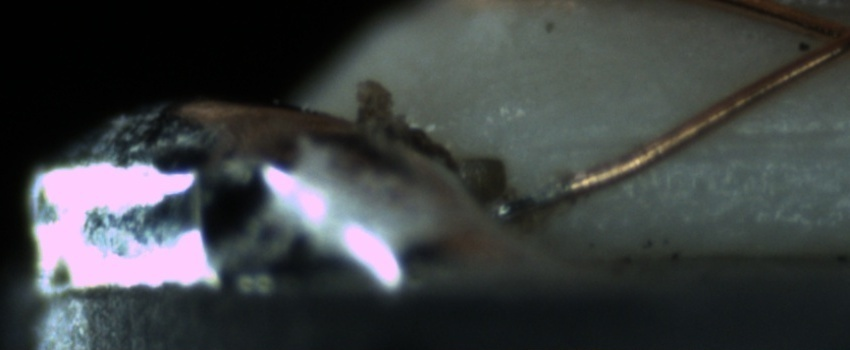CL: (783, 3, 849, 71)
DL: (570, 110, 850, 173)
TS: (494, 173, 583, 219)
TTCW: (486, 168, 597, 220)
